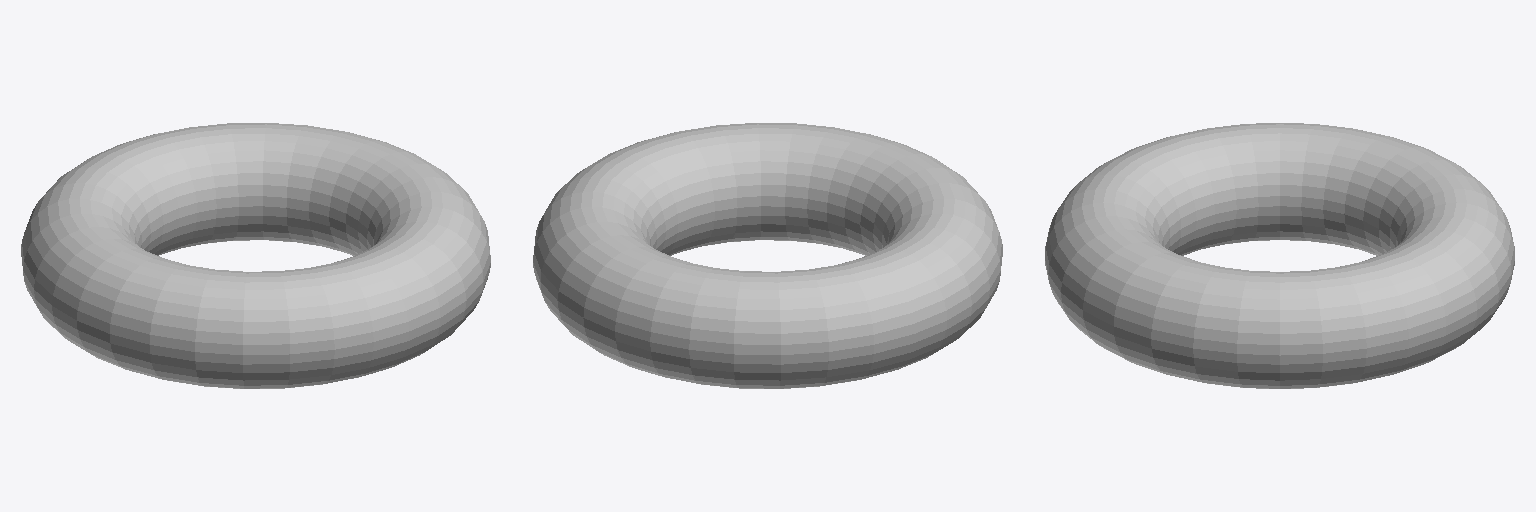
3 views of the same model, side by side, from view 1: azimuth 30°, elevation 25°; view 2: azimuth 150°, elevation 25°; view 3: azimuth 270°, elevation 25° (orthographic).
Visible parts, largest first — view 1: SurfTorus; view 2: SurfTorus; view 3: SurfTorus.
Part boxes in pixels (x1,y1,x2,y2): SurfTorus: (21,123,490,388); SurfTorus: (533,123,1002,388); SurfTorus: (1045,123,1514,388).
Bounding box in the file's own units: 2 × 0.5 × 2.